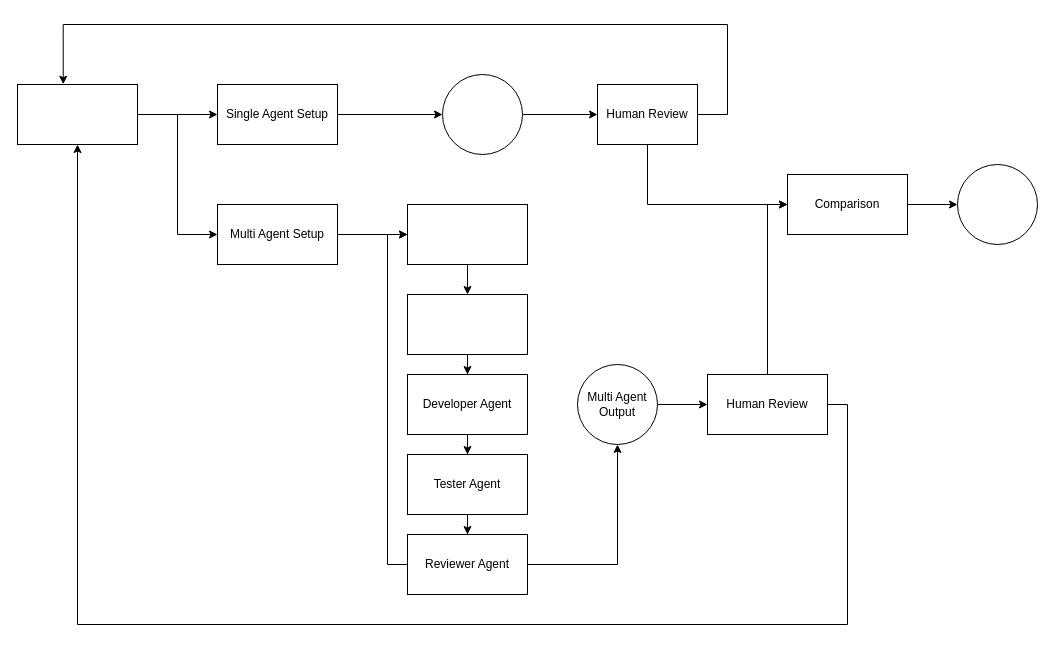
Image size: 1055x650. Some labels were removed from this diagram. Here are the shapes that lost their labels. From the top down, the centre of each, then its label:
At point 77,114: "Input (Prompt)".
At point 482,114: "Single Agent Output".
At point 997,204: "Final Result".
At point 467,234: "Product Owner Agent".
At point 467,324: "Archtiect Agent".
